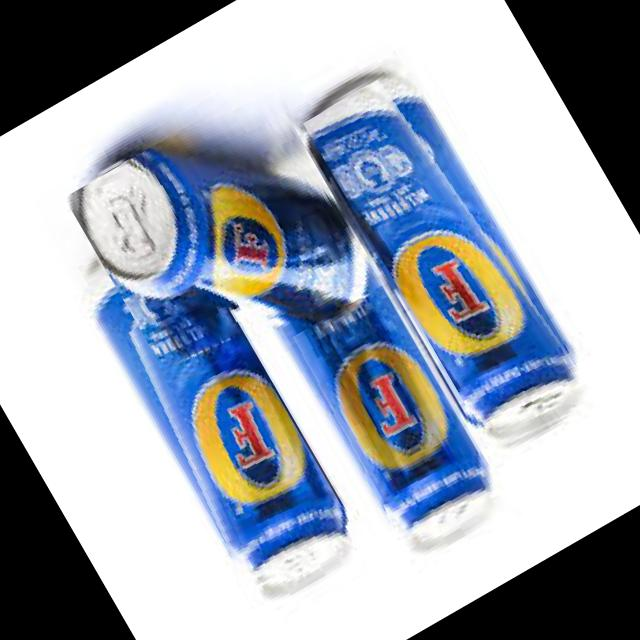Cans: (302, 63, 600, 460), (63, 81, 374, 388), (105, 283, 358, 598), (285, 285, 503, 552)
